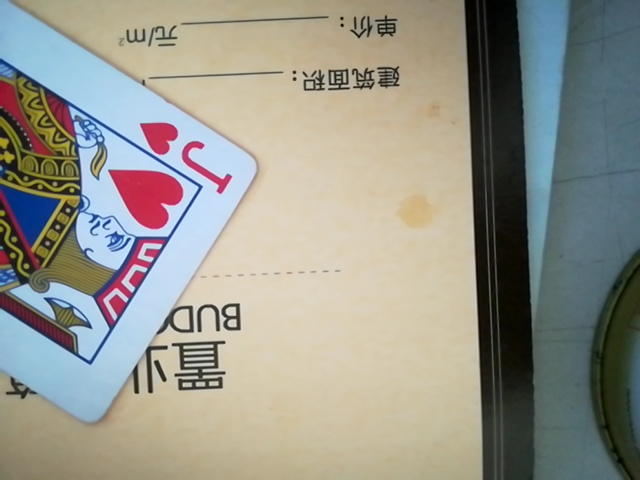hx j: (0, 0, 258, 419)
